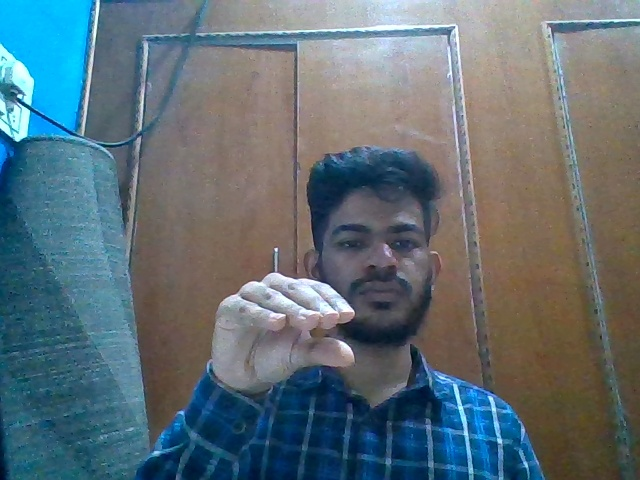no: (208, 269, 359, 393)
